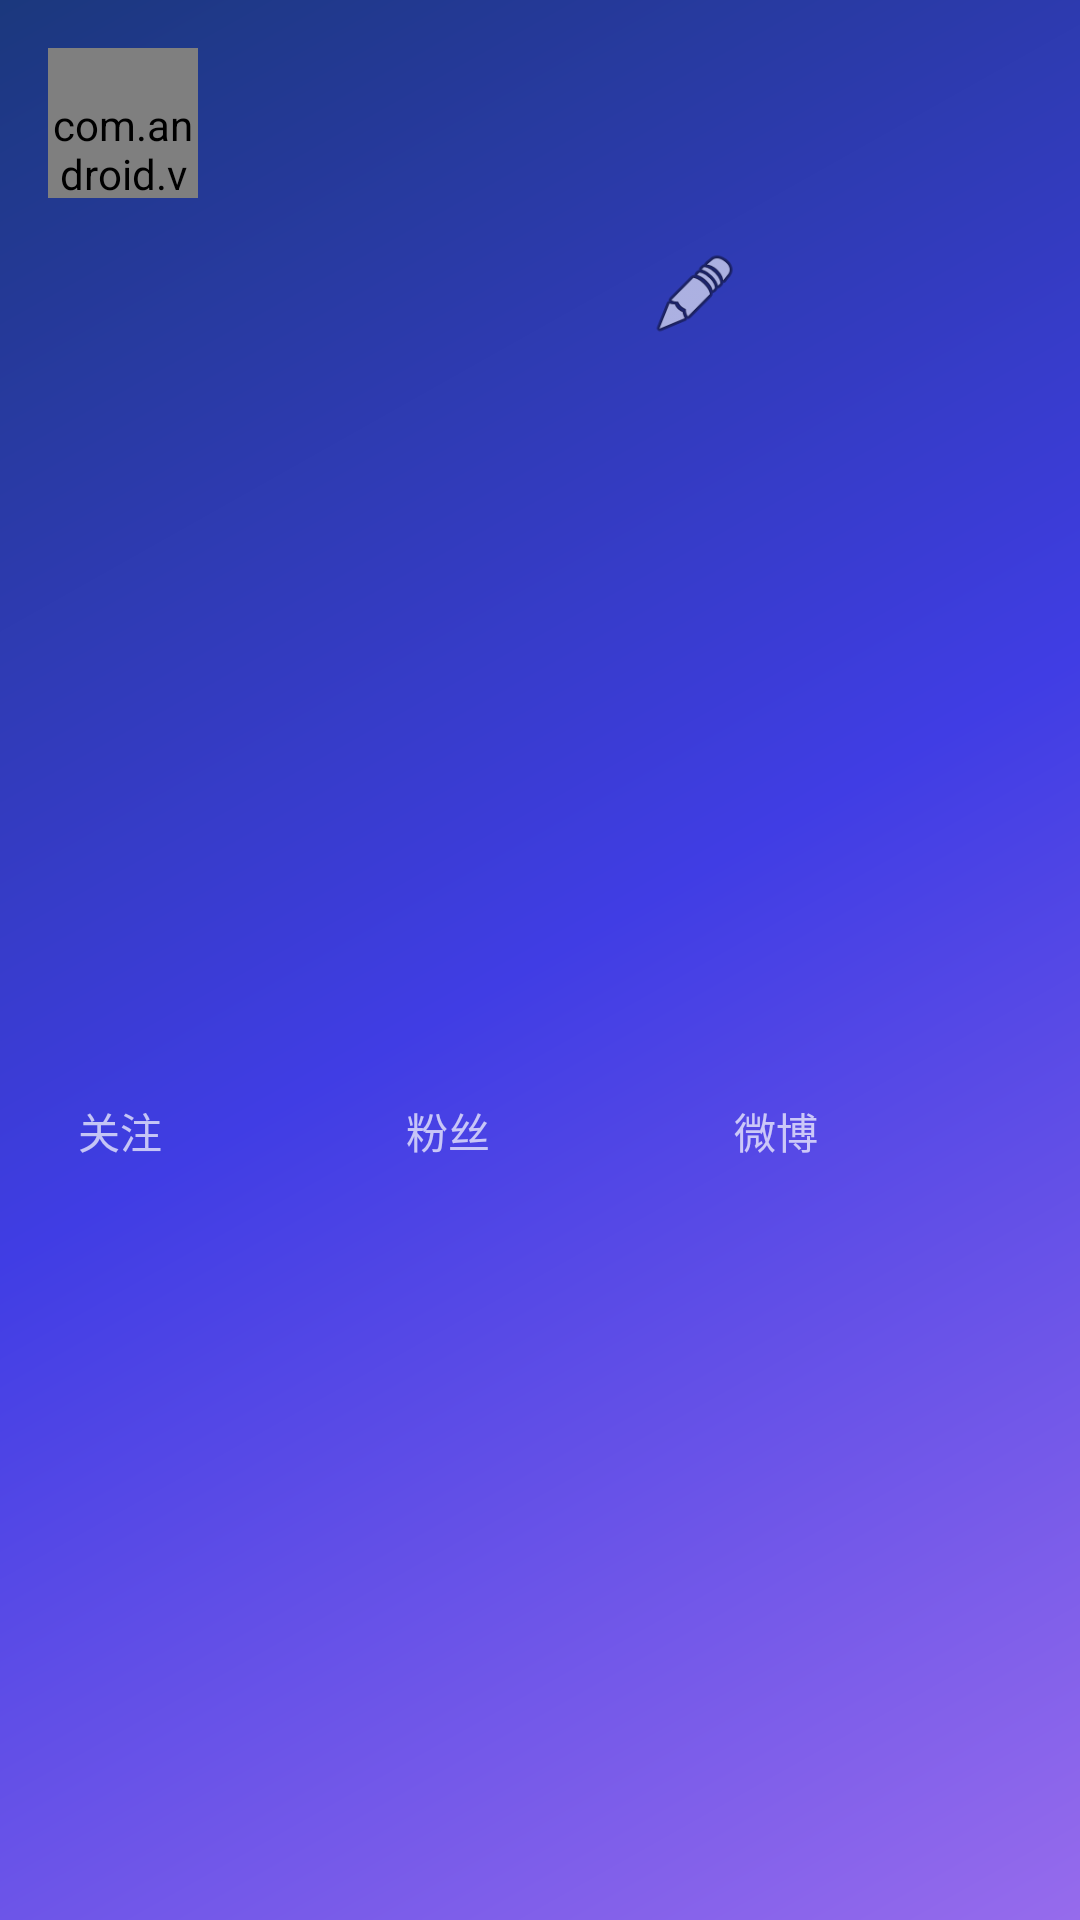

Where icons sit on this 1080x1920 app screen, as [x1, y1, x2, y2]:
edit: [657, 255, 733, 331]
